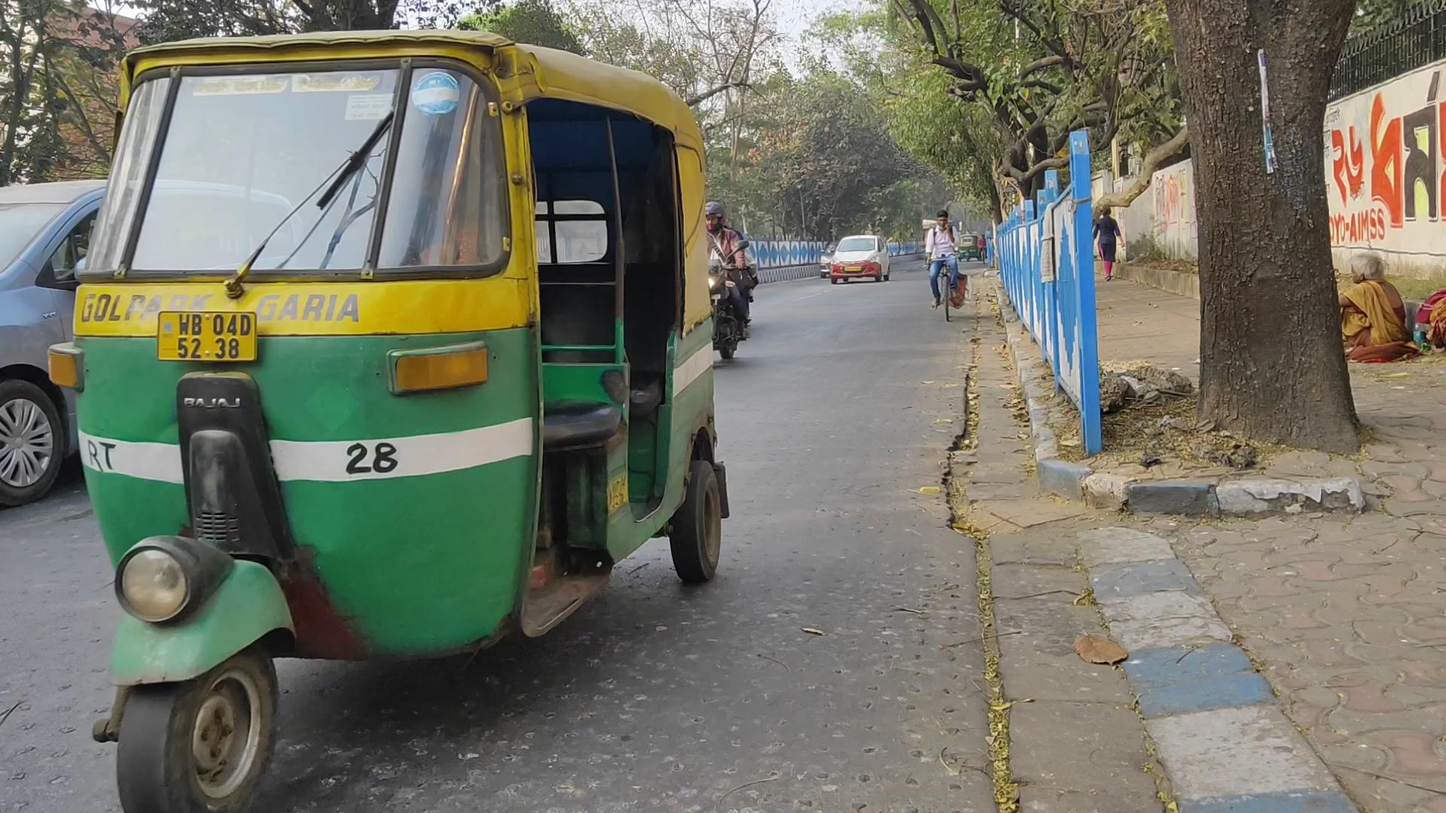Auto: (53, 29, 728, 813)
bike: (707, 202, 761, 361), (926, 208, 965, 324)
car: (1, 181, 322, 507), (829, 233, 891, 285)
